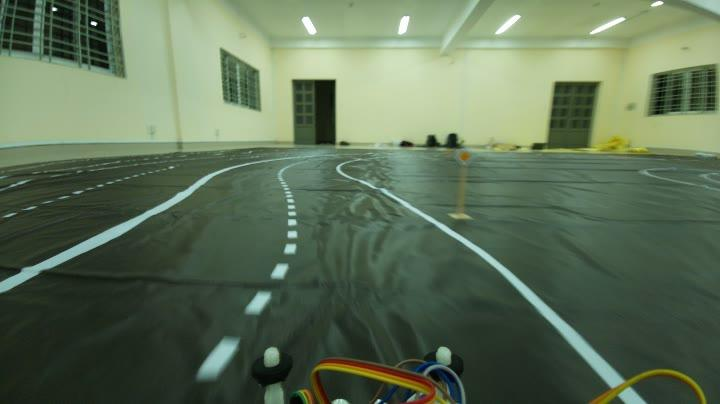priority: (456, 145, 476, 168)
